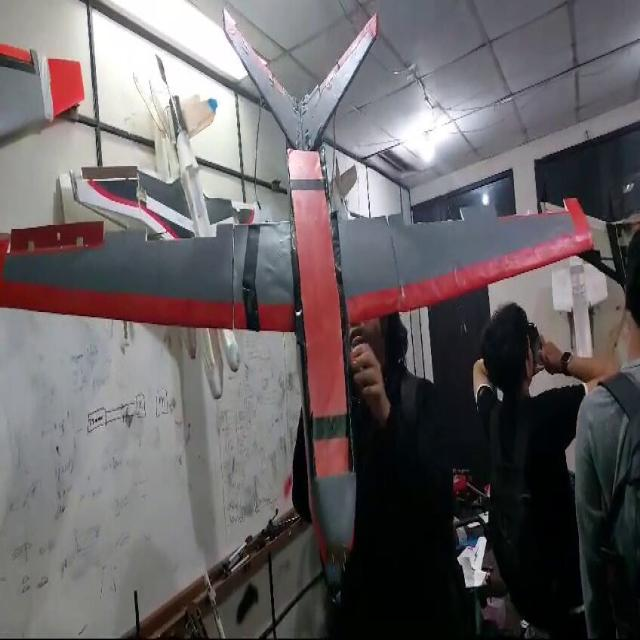plane: (0, 1, 598, 600)
